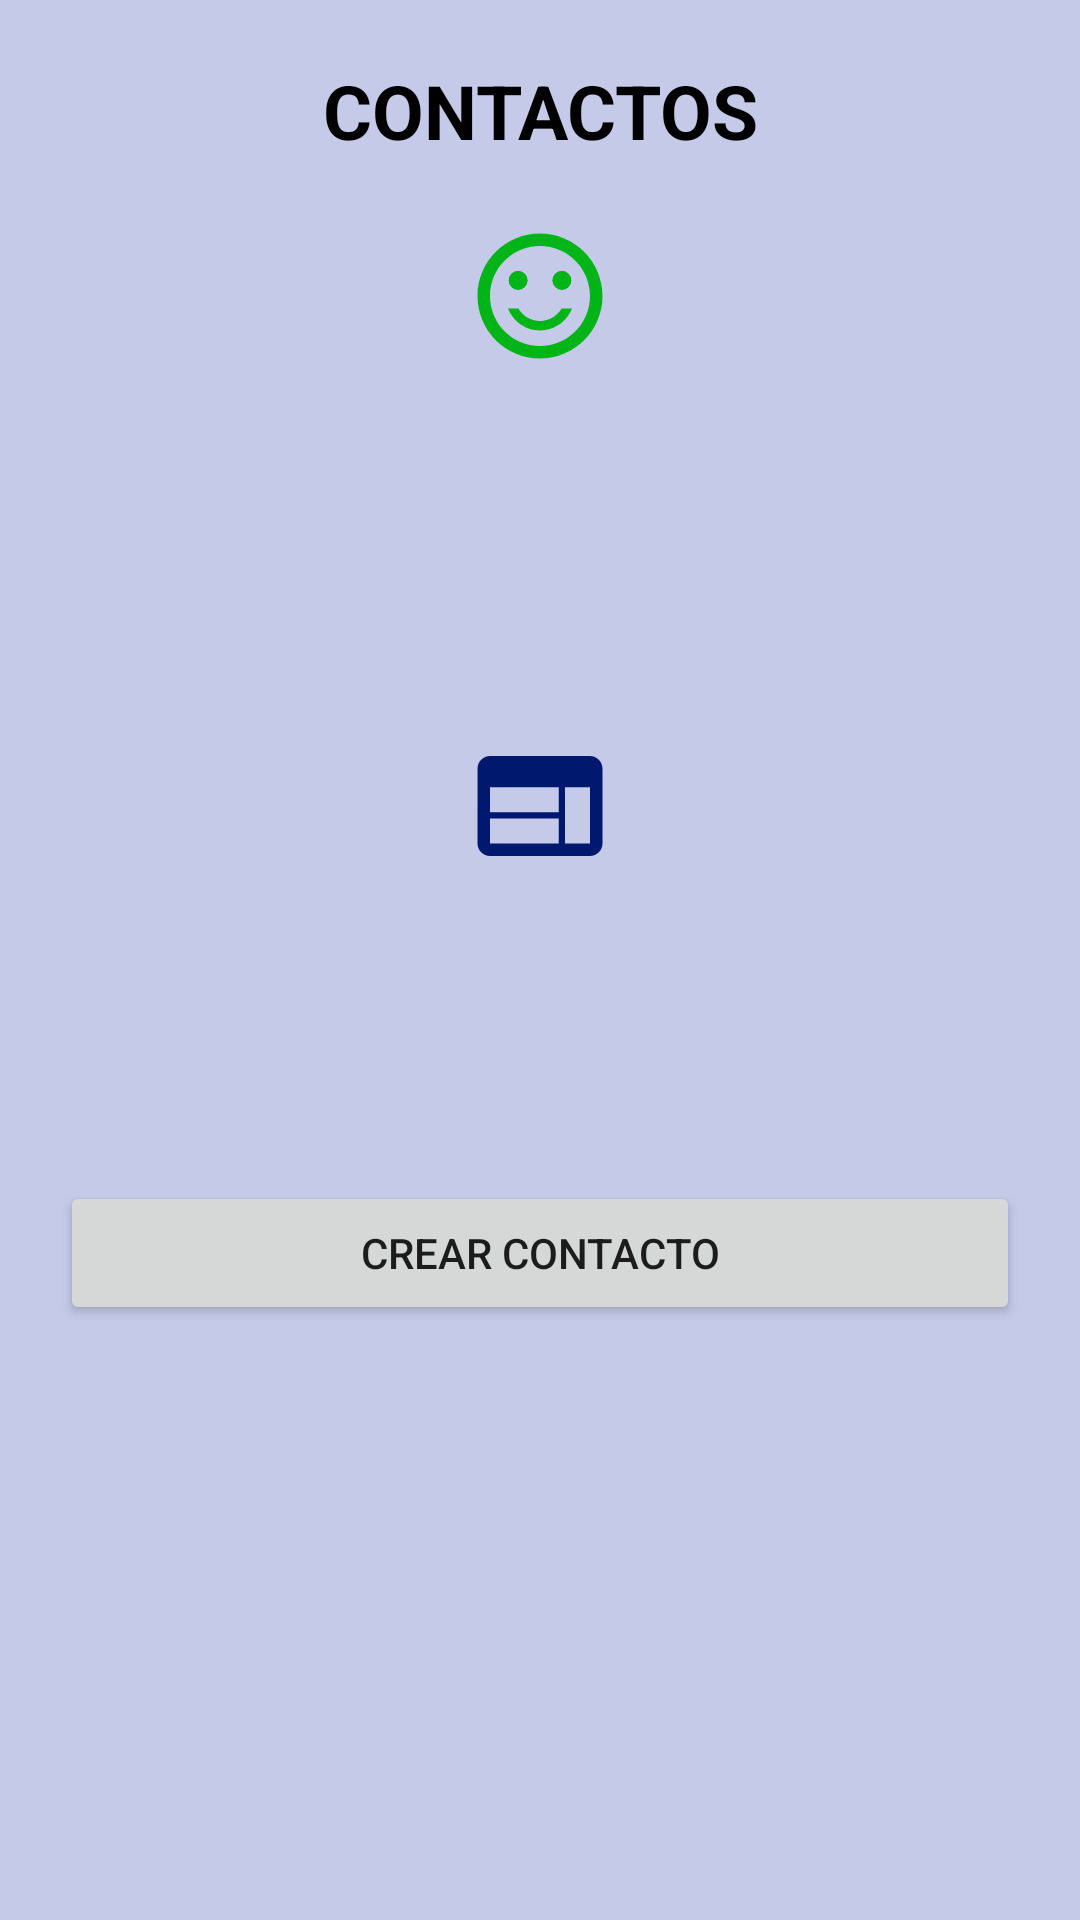

Named icons in this screenshot (1080w x 1920h) and their centers, (x=x, y=y):
happy: (x=540, y=296)
web: (x=540, y=806)
